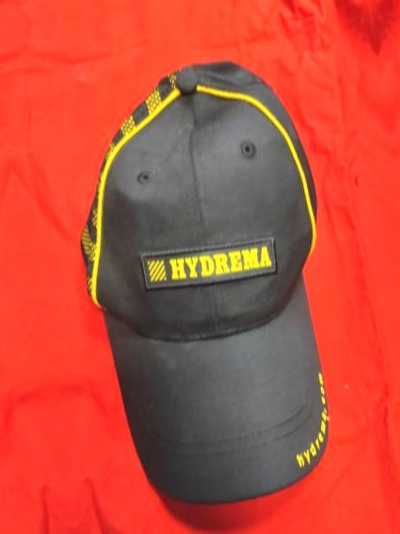Hat: (16, 26, 400, 534), (0, 87, 57, 534)
